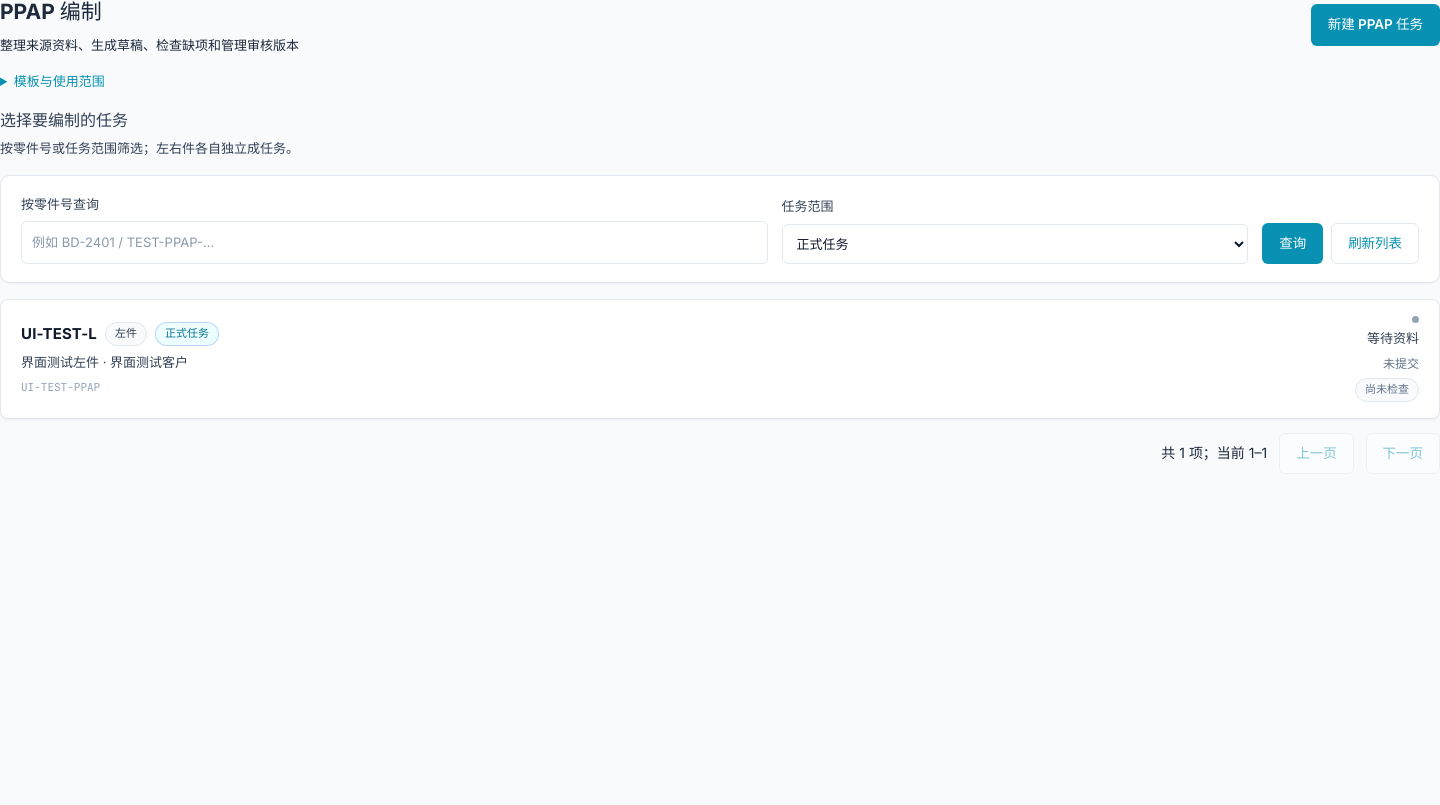
PPAP 四阶段工作台 › 未取得契约的资料目标明确报错，不猜表单或自动保存
Click the button "UI-TEST-L 左件 正式任务 界面测试左件 · 界面测试客户 UI-TEST-PPAP 等待资料 未提交 尚未检查": (720,359) 0,299 -> 1439,419
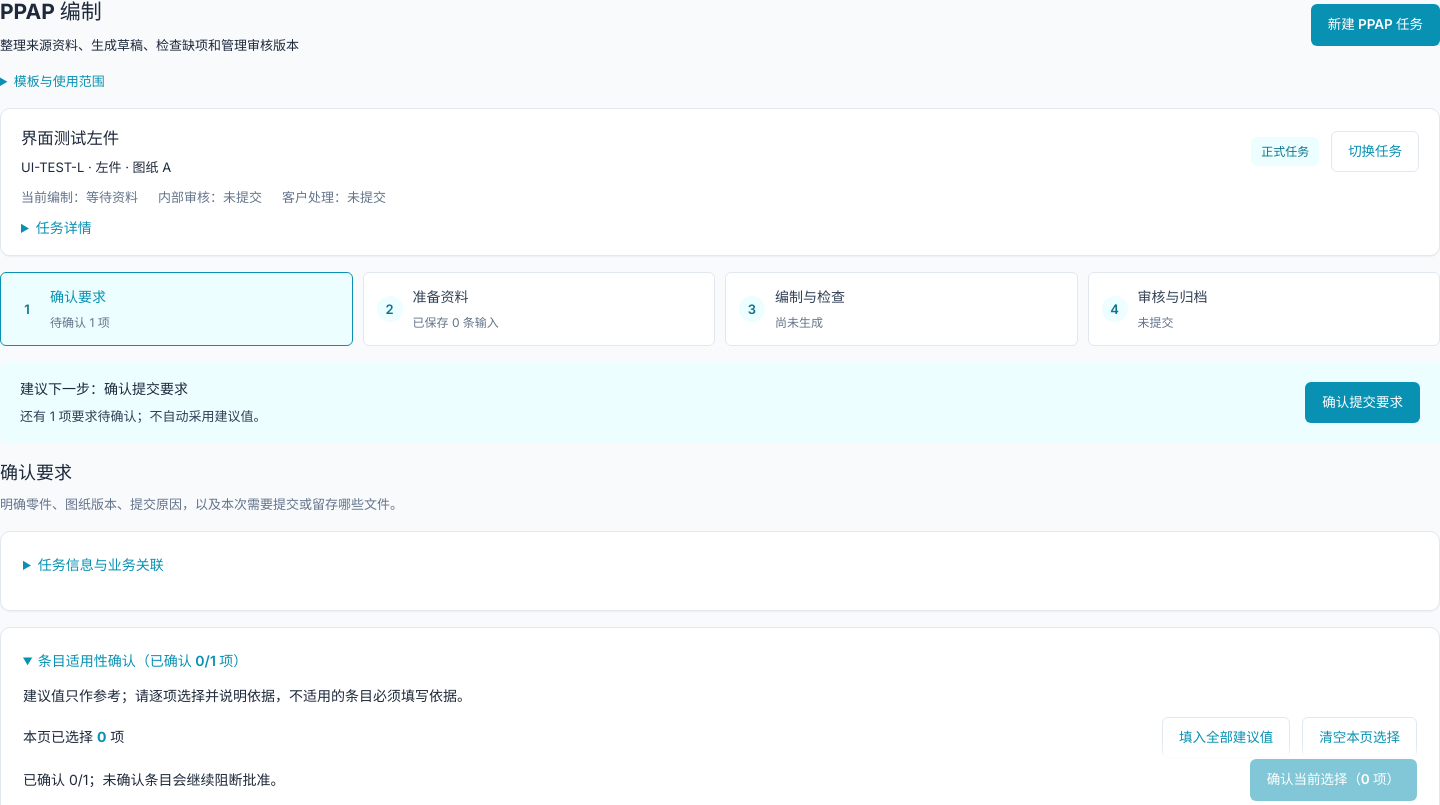
Click the button "3 编制与检查 尚未生成": (810,297) 725,272 -> 1078,346
(page scrolled)
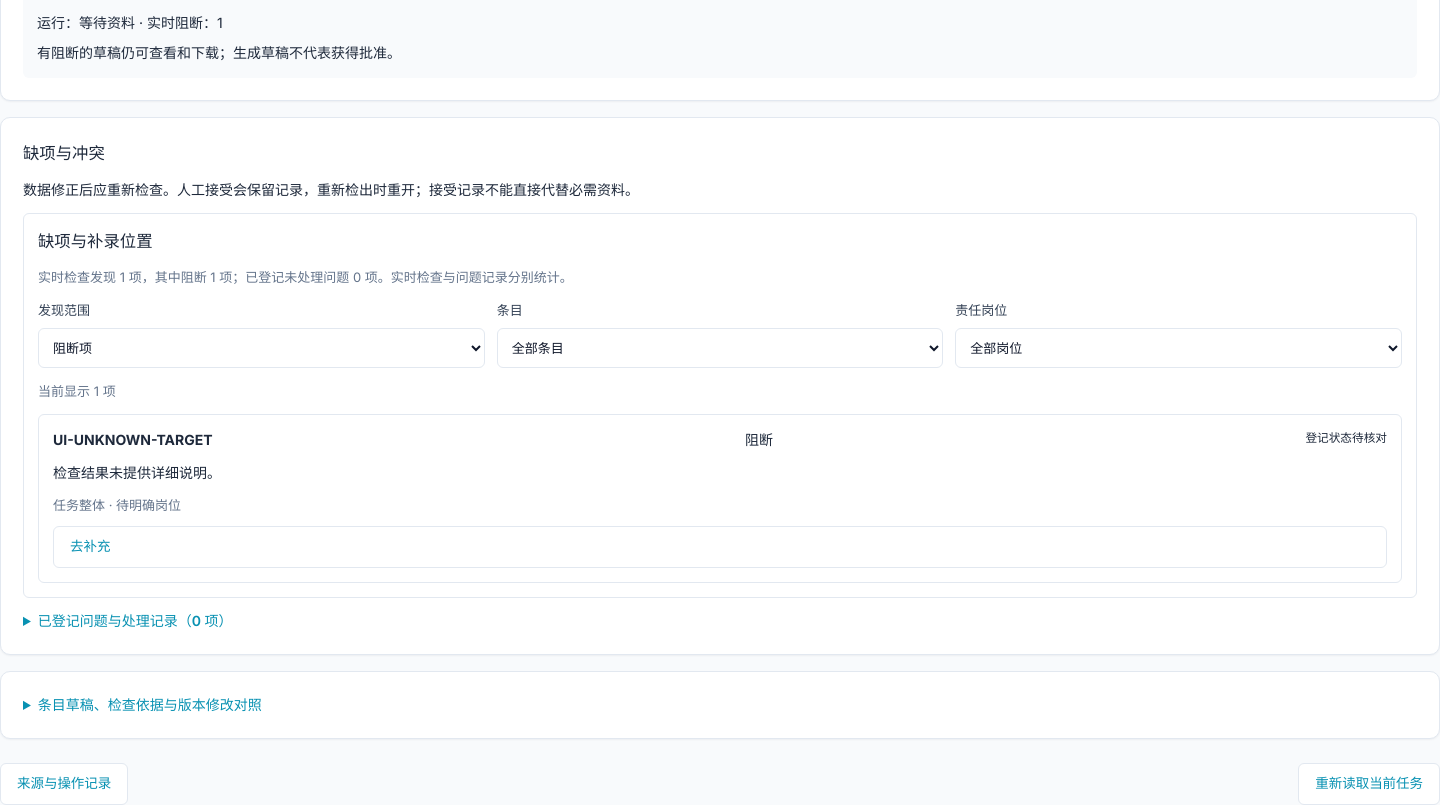
Click the button "去补充": (90,546) 53,526 -> 1387,568
(page scrolled)
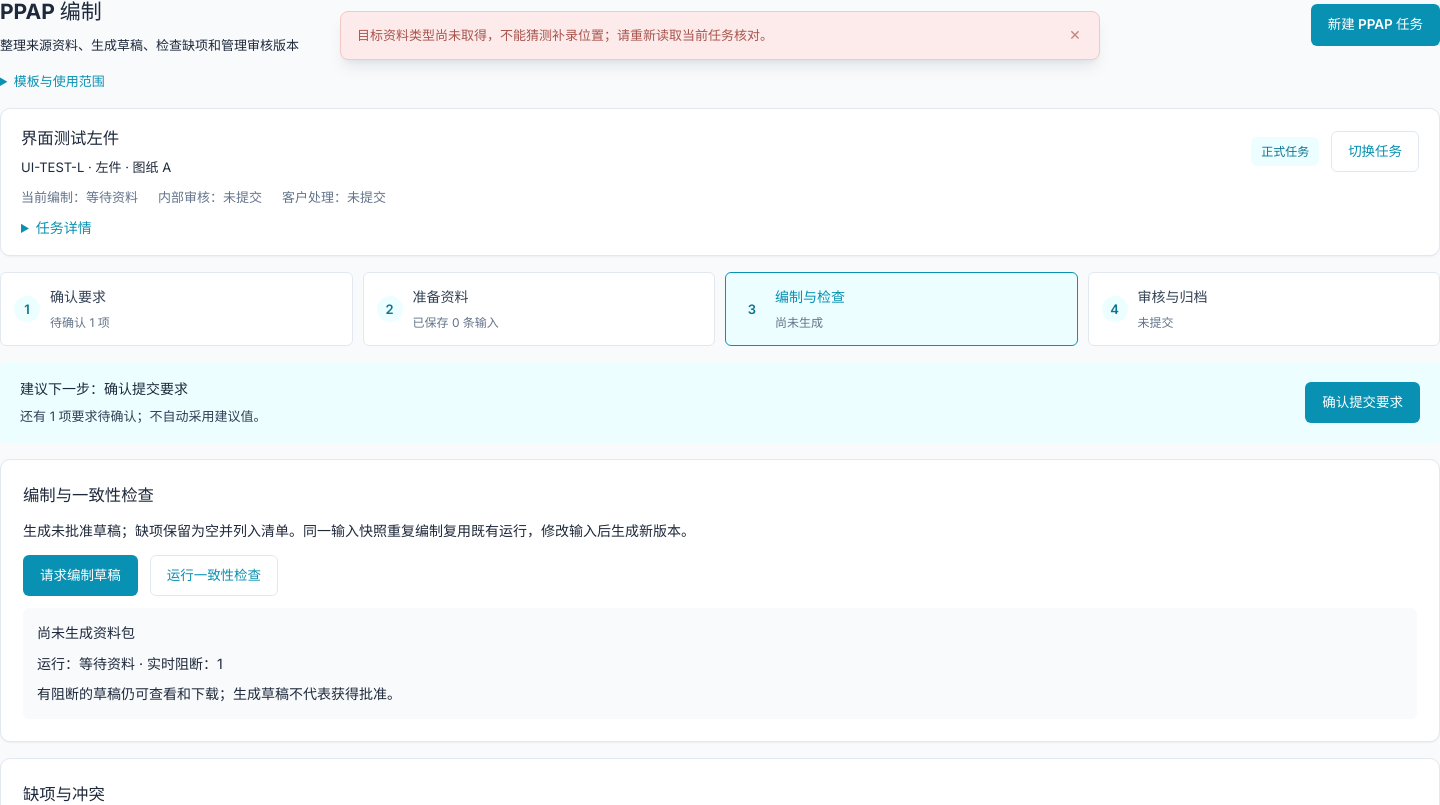
Expected: the message "目标资料类型尚未取得，不能猜测补录位置；请重新读取当前任务核对。 ×" is shown, 340,11 -> 1100,60
